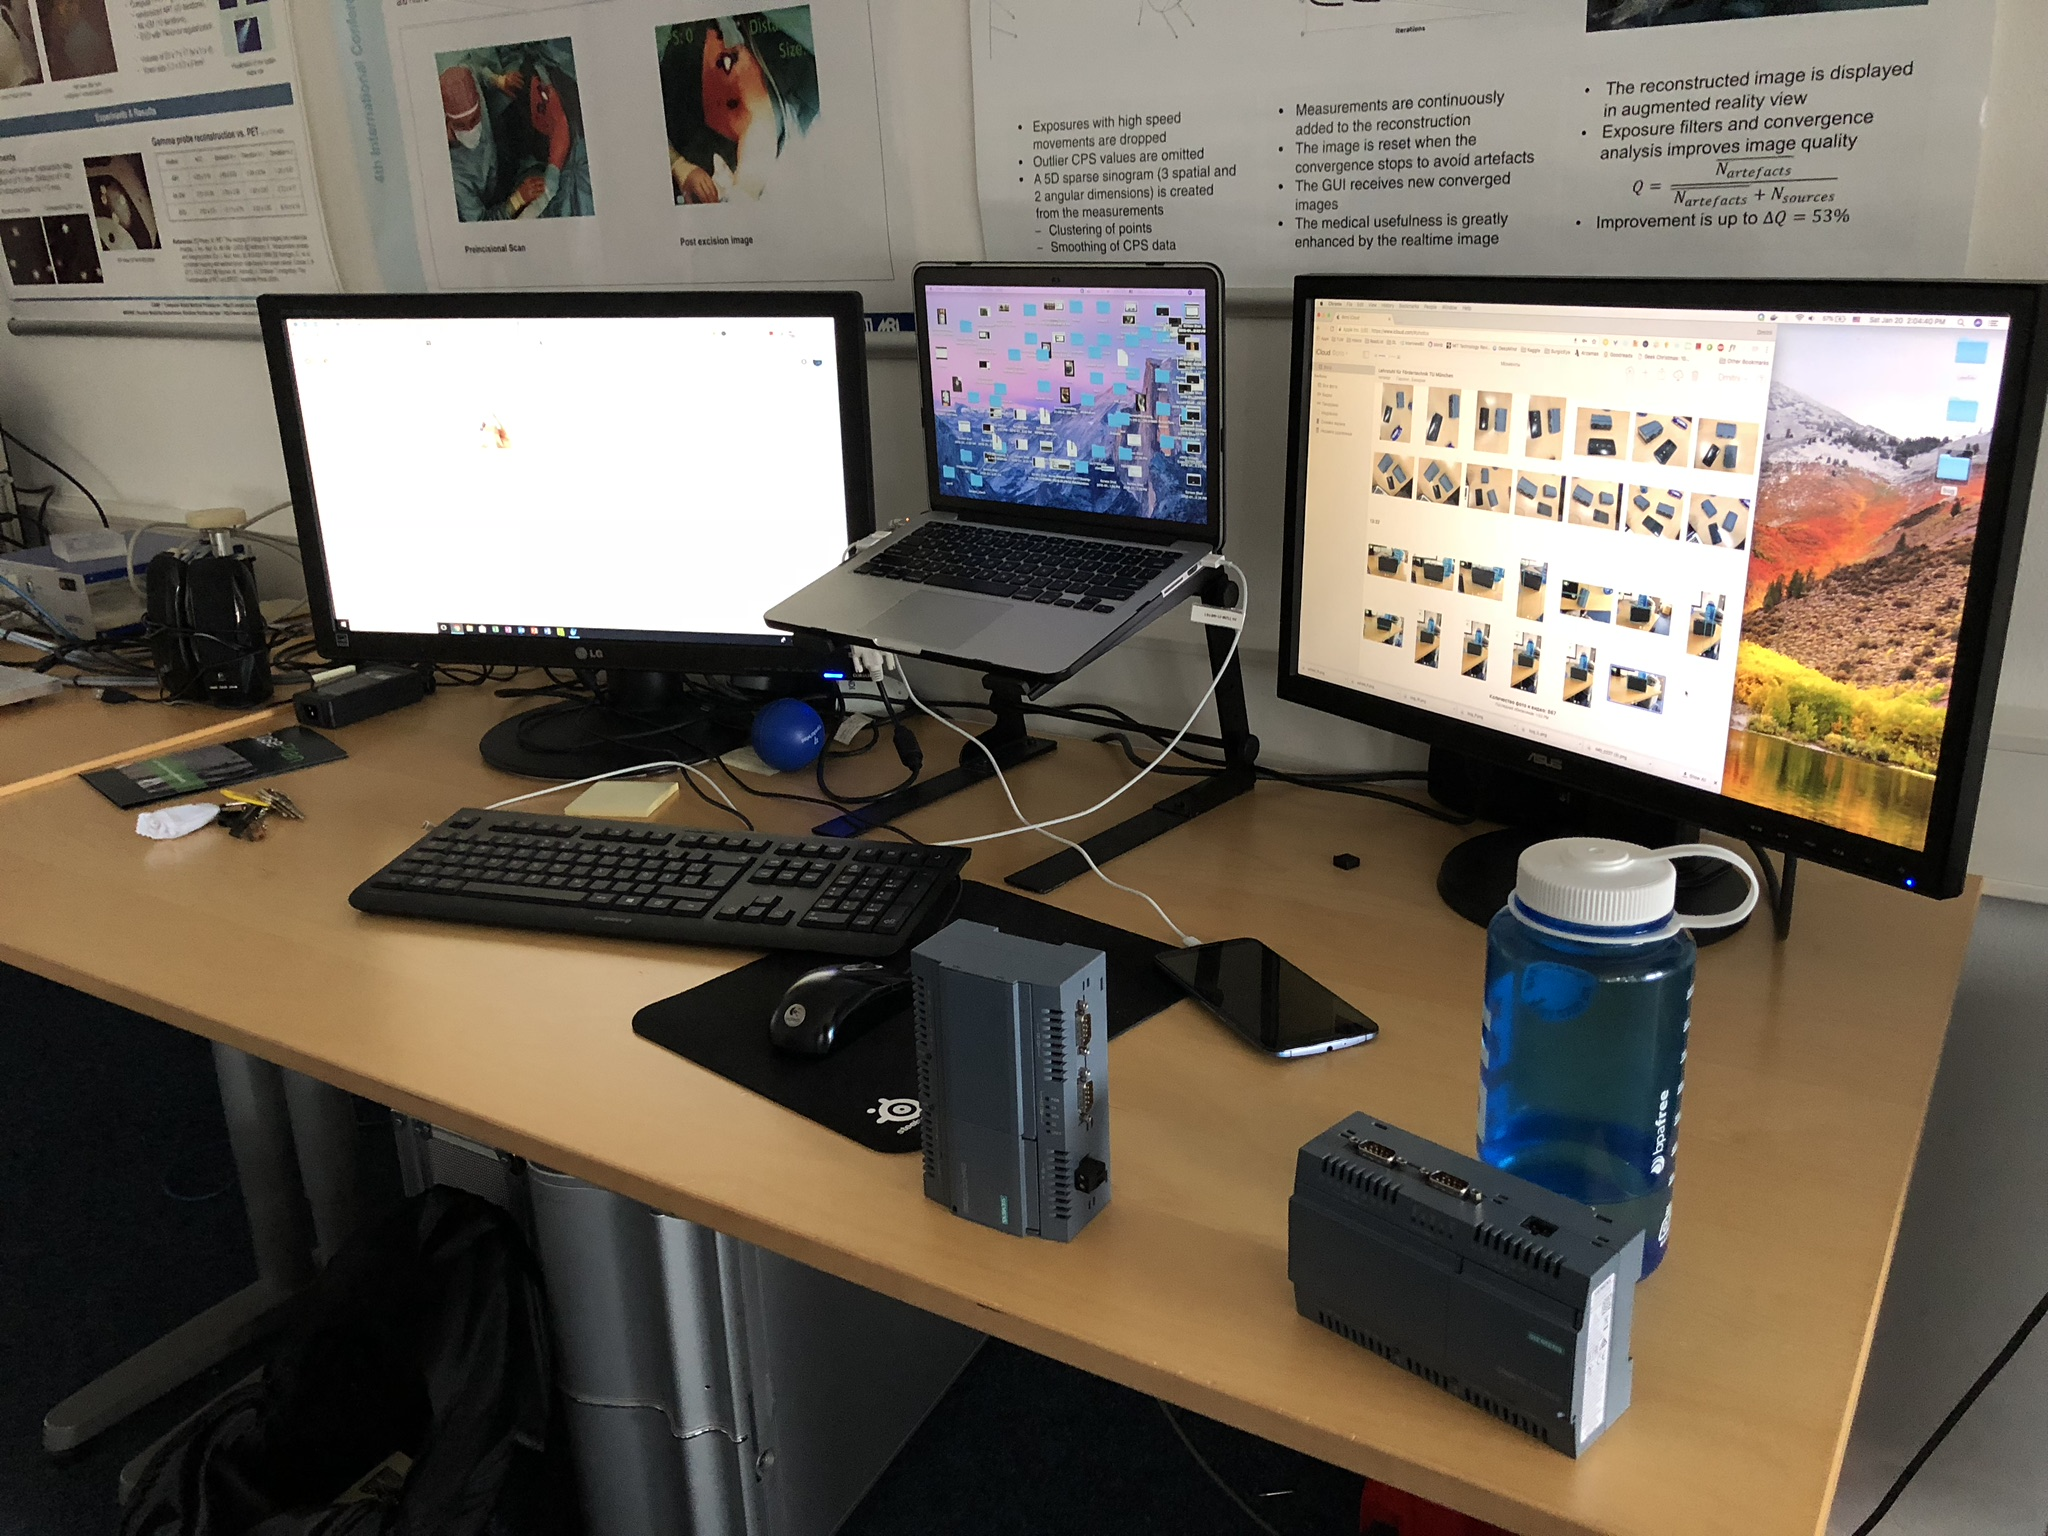device: (1288, 1112, 1646, 1462), (913, 920, 1113, 1244)
